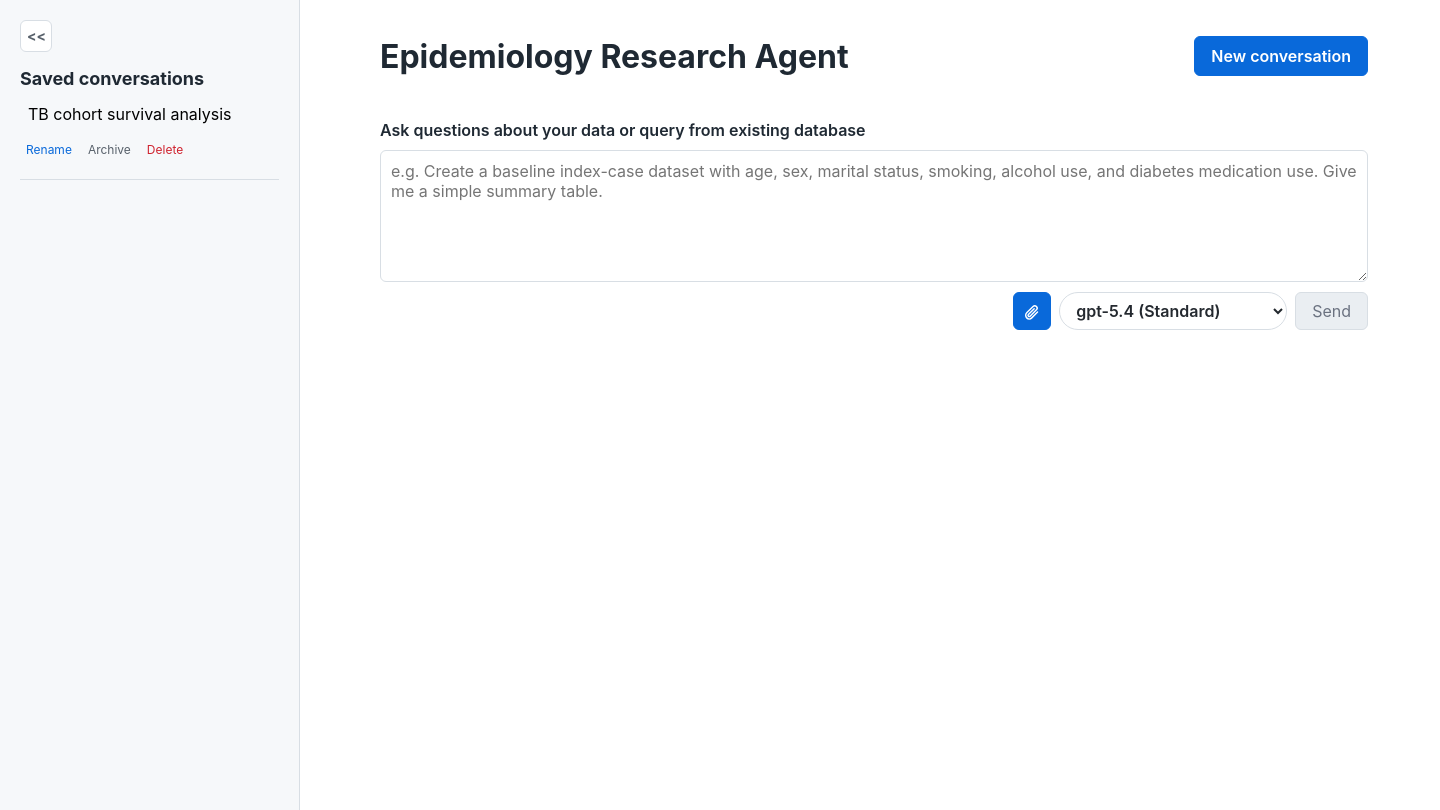
Scenario: App › deletes an open saved conversation and returns to a blank conversation
The image size is (1440, 810).
Click the button "TB cohort survival analysis" at (130, 114), box [20,97,240,131]
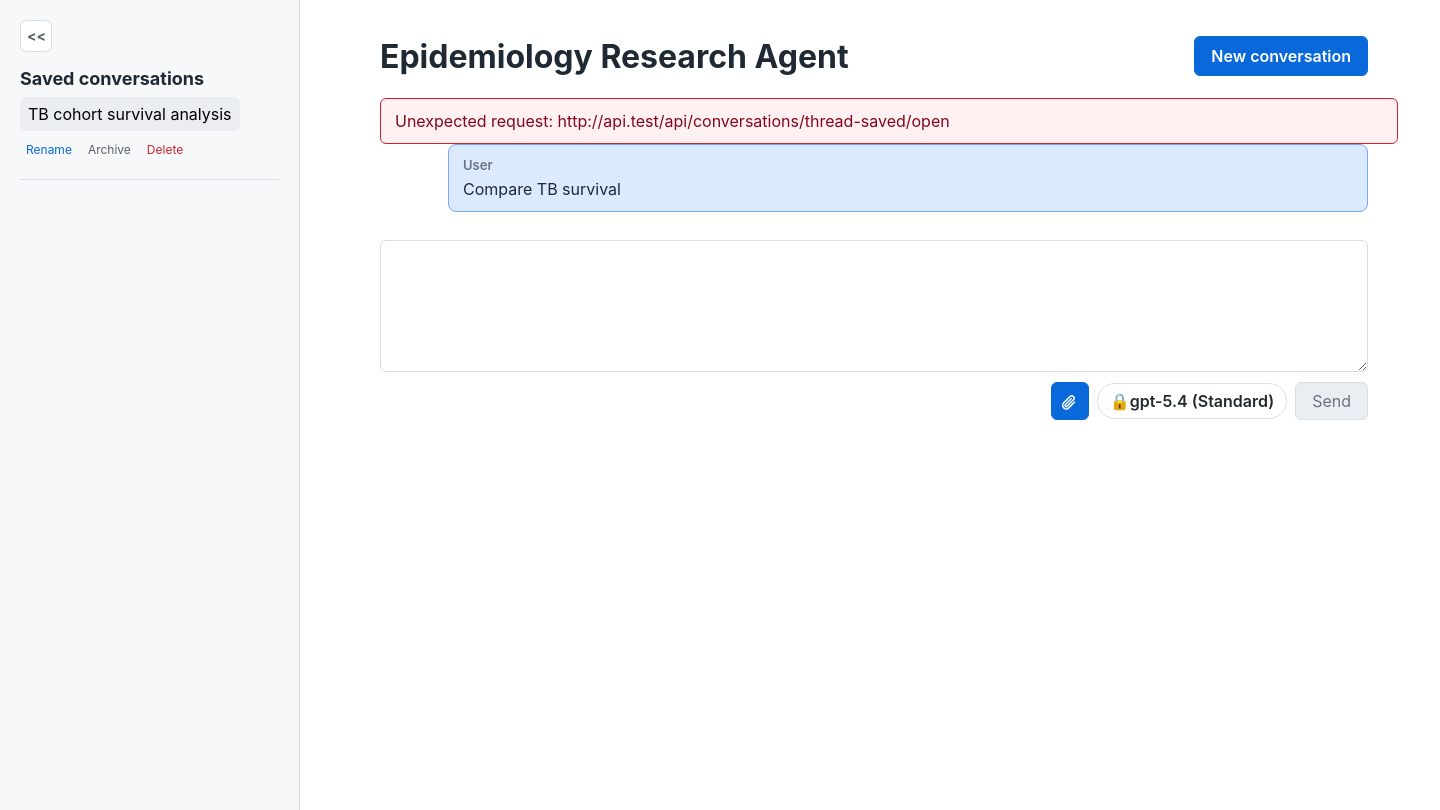
Now the text "Compare TB survival" is shown, box [463,179,621,199]
Click the button with aria-label "Delete TB cohort survival analysis" at (165, 149), box [141,135,189,163]
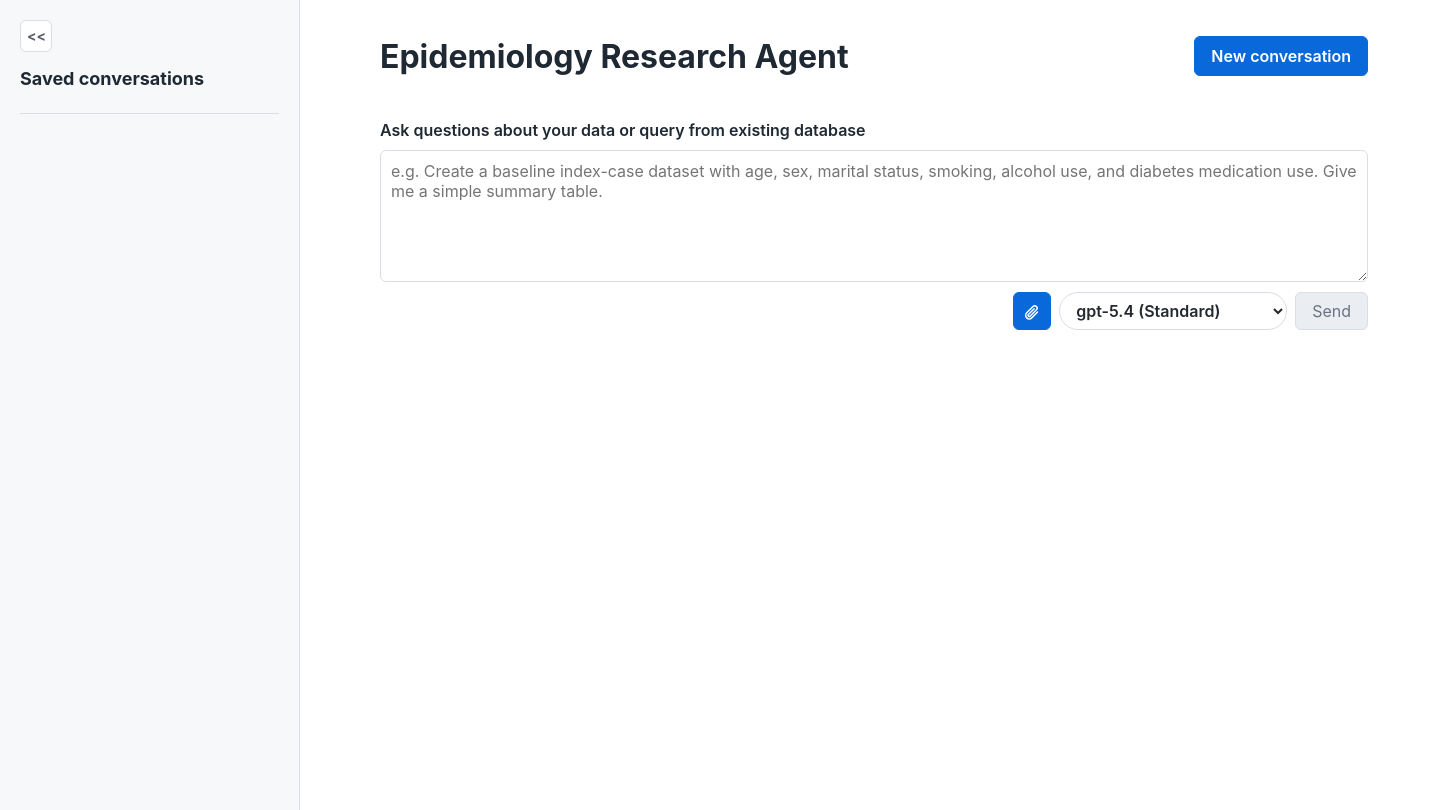
Now the button "TB cohort survival analysis" is gone
